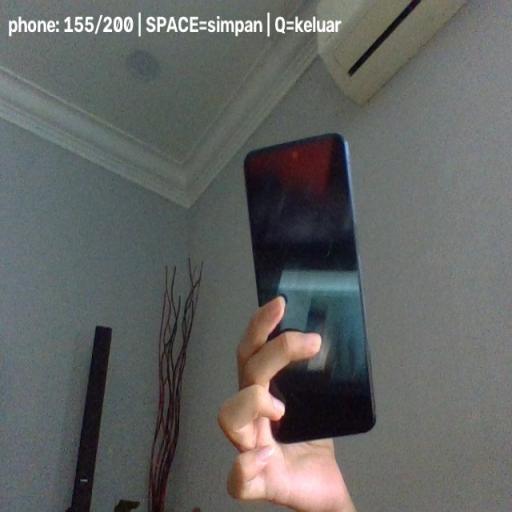Phone: (244, 132, 376, 445)
